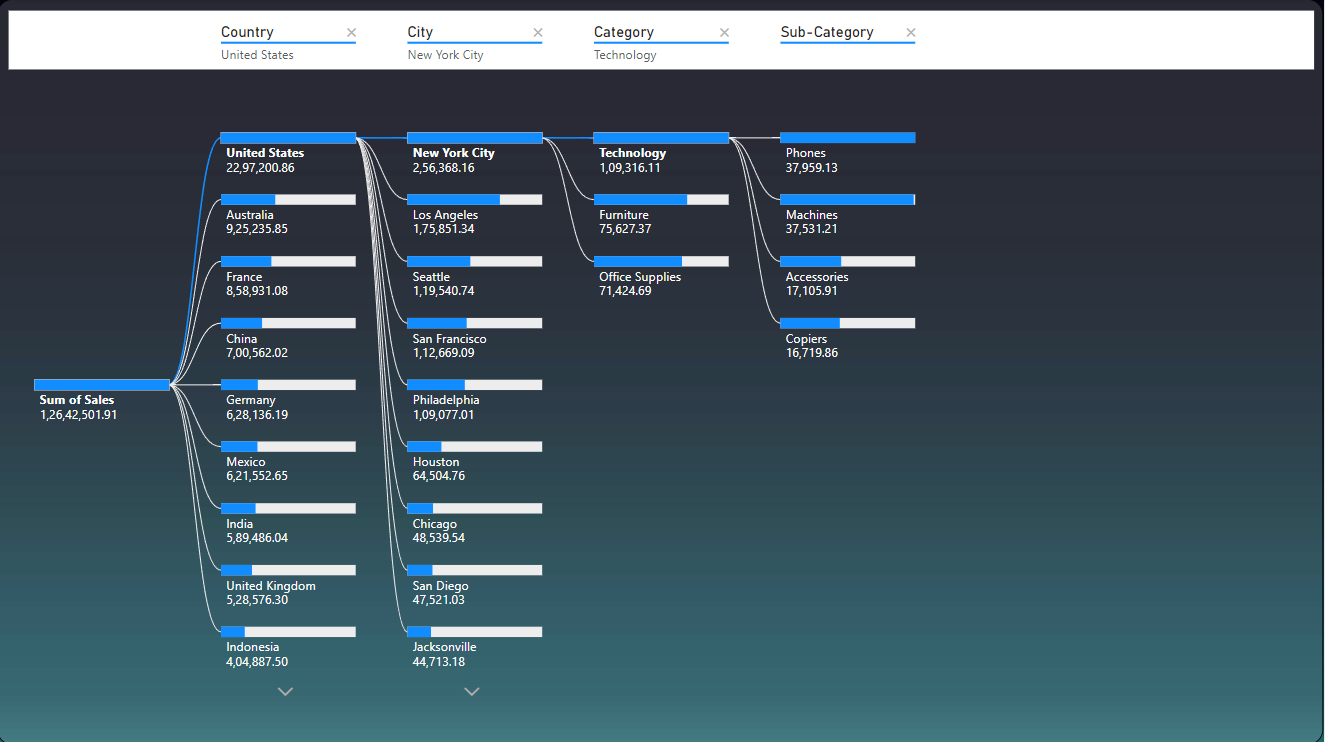

Layout of this report page (visuals, bound fields, positions):
{"tool":"powerbi","page":{"name":"Decomposition","canvas":[1280,720],"ordinal":2},"visuals":[{"type":"decompositionTreeVisual","fields":{"Analyze":["Sum(Orders.Sales)"],"ExplainBy":["Orders.Country","Orders.City","Orders.Category","Orders.Sub-Category"]},"box":[0,0,1280,720.2],"z":0}]}

Visuals, with their boxes in screenshot pixels (x1, y1, x2, y2), scaled from the page's 1280x720 canvas onto the 1325x742 screenshot:
decompositionTreeVisual - Sum(Orders.Sales) x Orders.Country: 0, 0, 1324, 741
